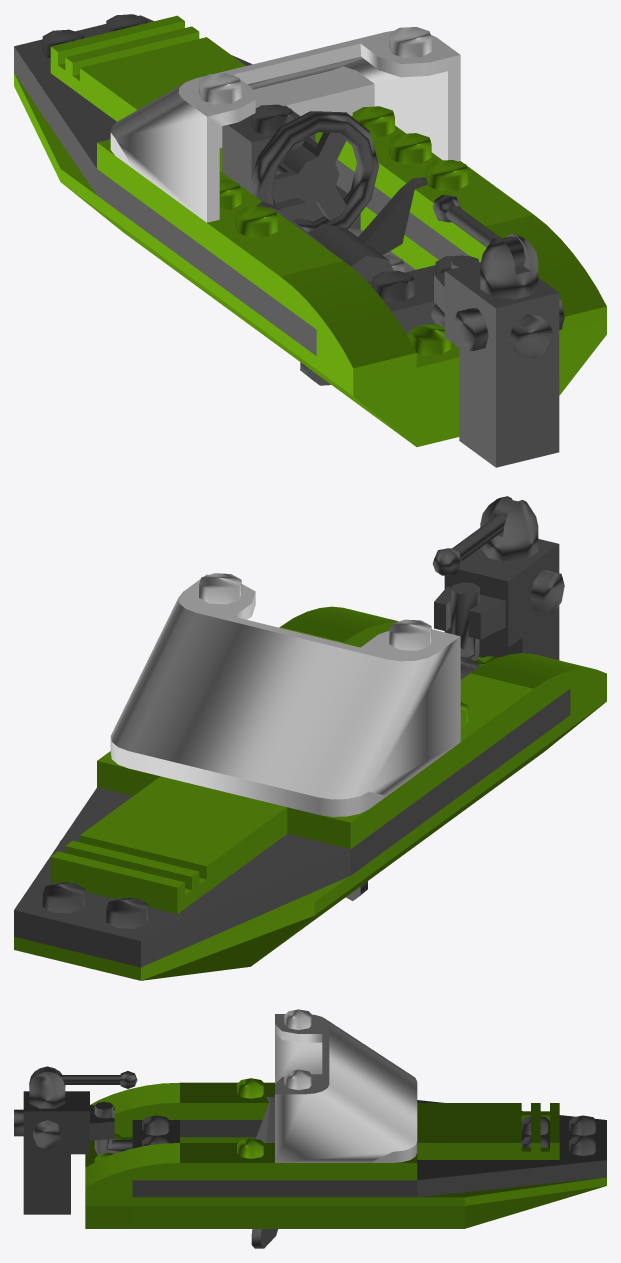
Rendered from GOONSSPEEDBOAT.glb.
3 views of the same model, one above another, from view 1: azimuth 30°, elevation 25°; view 2: azimuth 150°, elevation 25°; view 3: azimuth 270°, elevation 25° (orthographic). The views are drawn at different scales.
Parts seen in each view (by area): view 1: GOONSSPEEDBOAT; view 2: GOONSSPEEDBOAT; view 3: GOONSSPEEDBOAT.
Part boxes in pixels (bbox=[...]): GOONSSPEEDBOAT: bbox=[14, 14, 606, 467]; GOONSSPEEDBOAT: bbox=[14, 496, 606, 980]; GOONSSPEEDBOAT: bbox=[14, 1009, 606, 1248].
Size of the model in its own units: 0.3201 by 0.3662 by 1.
